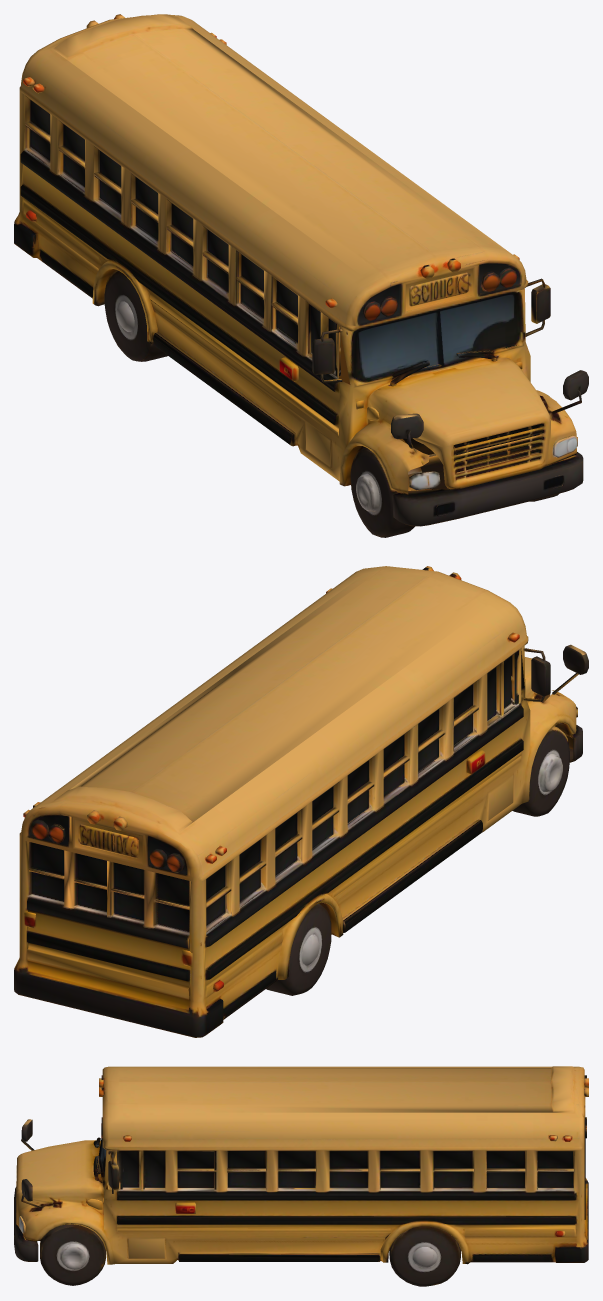
Rendered from a_school_bus_edfa6ba9_v4.glb.
3 views of the same model, one above another, from view 1: azimuth 30°, elevation 25°; view 2: azimuth 150°, elevation 25°; view 3: azimuth 270°, elevation 25° (orthographic). The views are drawn at different scales.
Visible parts, largest first — view 1: material; view 2: material; view 3: material.
Part boxes in pixels (<box>): material: <box>14,14,588,537</box>; material: <box>14,566,588,1037</box>; material: <box>14,1066,588,1286</box>.
Bounding box in the file's own units: 0.6542 × 0.6443 × 1.9.
Materials: 1 (1 with a texture image).
